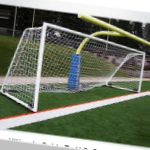goals: (2, 18, 147, 115)
